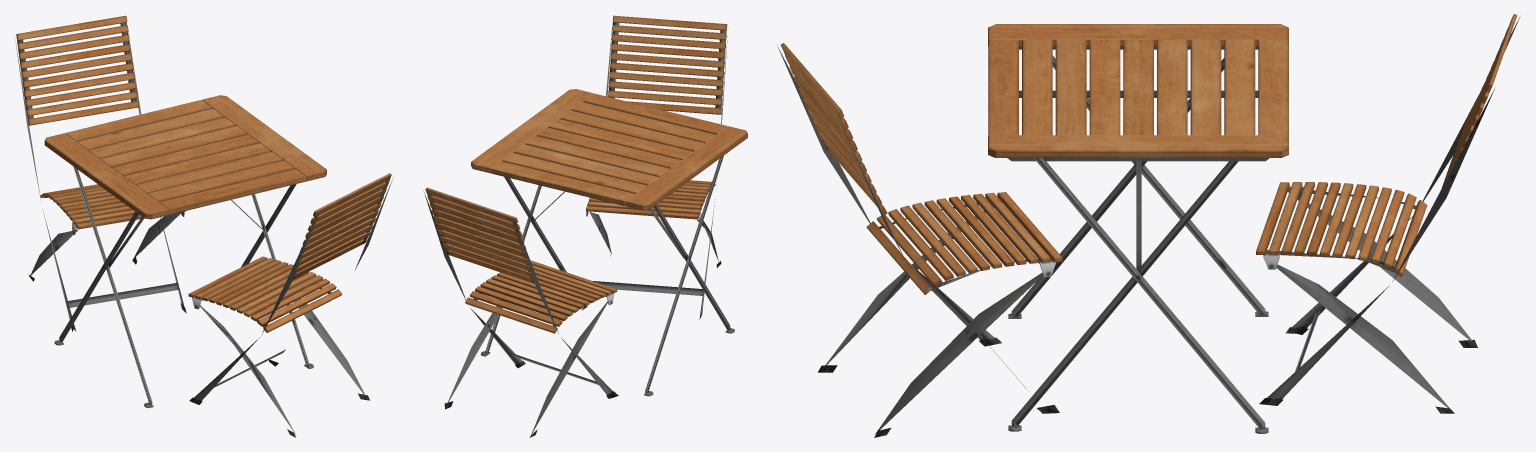
The model's file is outdoor_table_chair_set_01_game.gltf.
The picture shows the model from 3 angles, left to right: view 1: azimuth 30°, elevation 25°; view 2: azimuth 150°, elevation 25°; view 3: azimuth 270°, elevation 25°; orthographic projection. The views are drawn at different scales.
Parts seen in each view (by area): view 1: outdoor_table_chair_set_01; view 2: outdoor_table_chair_set_01; view 3: outdoor_table_chair_set_01.
Part boxes in pixels (x1,y1,x2,y2): outdoor_table_chair_set_01: (15,15,393,437); outdoor_table_chair_set_01: (423,15,747,437); outdoor_table_chair_set_01: (777,14,1520,437).
Bounding box in the file's own units: 0.7346 × 0.8505 × 1.71.
Materials: 2 (2 with a texture image).
